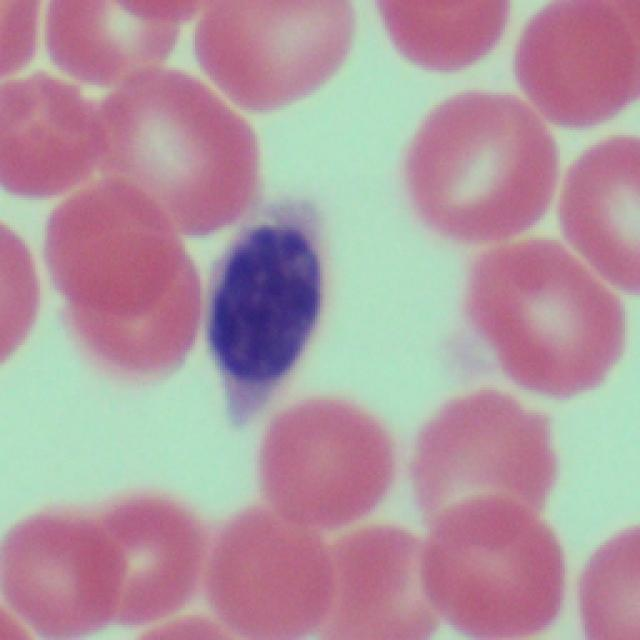RBC: (411, 385, 562, 640), (46, 185, 197, 388), (87, 65, 254, 230), (470, 233, 631, 398), (407, 475, 566, 640), (399, 87, 552, 252), (235, 402, 410, 534), (188, 491, 343, 640), (3, 491, 136, 639), (91, 470, 204, 626), (196, 0, 354, 110), (296, 525, 454, 633), (512, 2, 638, 134), (39, 0, 182, 91), (370, 0, 511, 73), (571, 524, 640, 639), (0, 210, 39, 372)
WBC: (203, 194, 351, 410)
